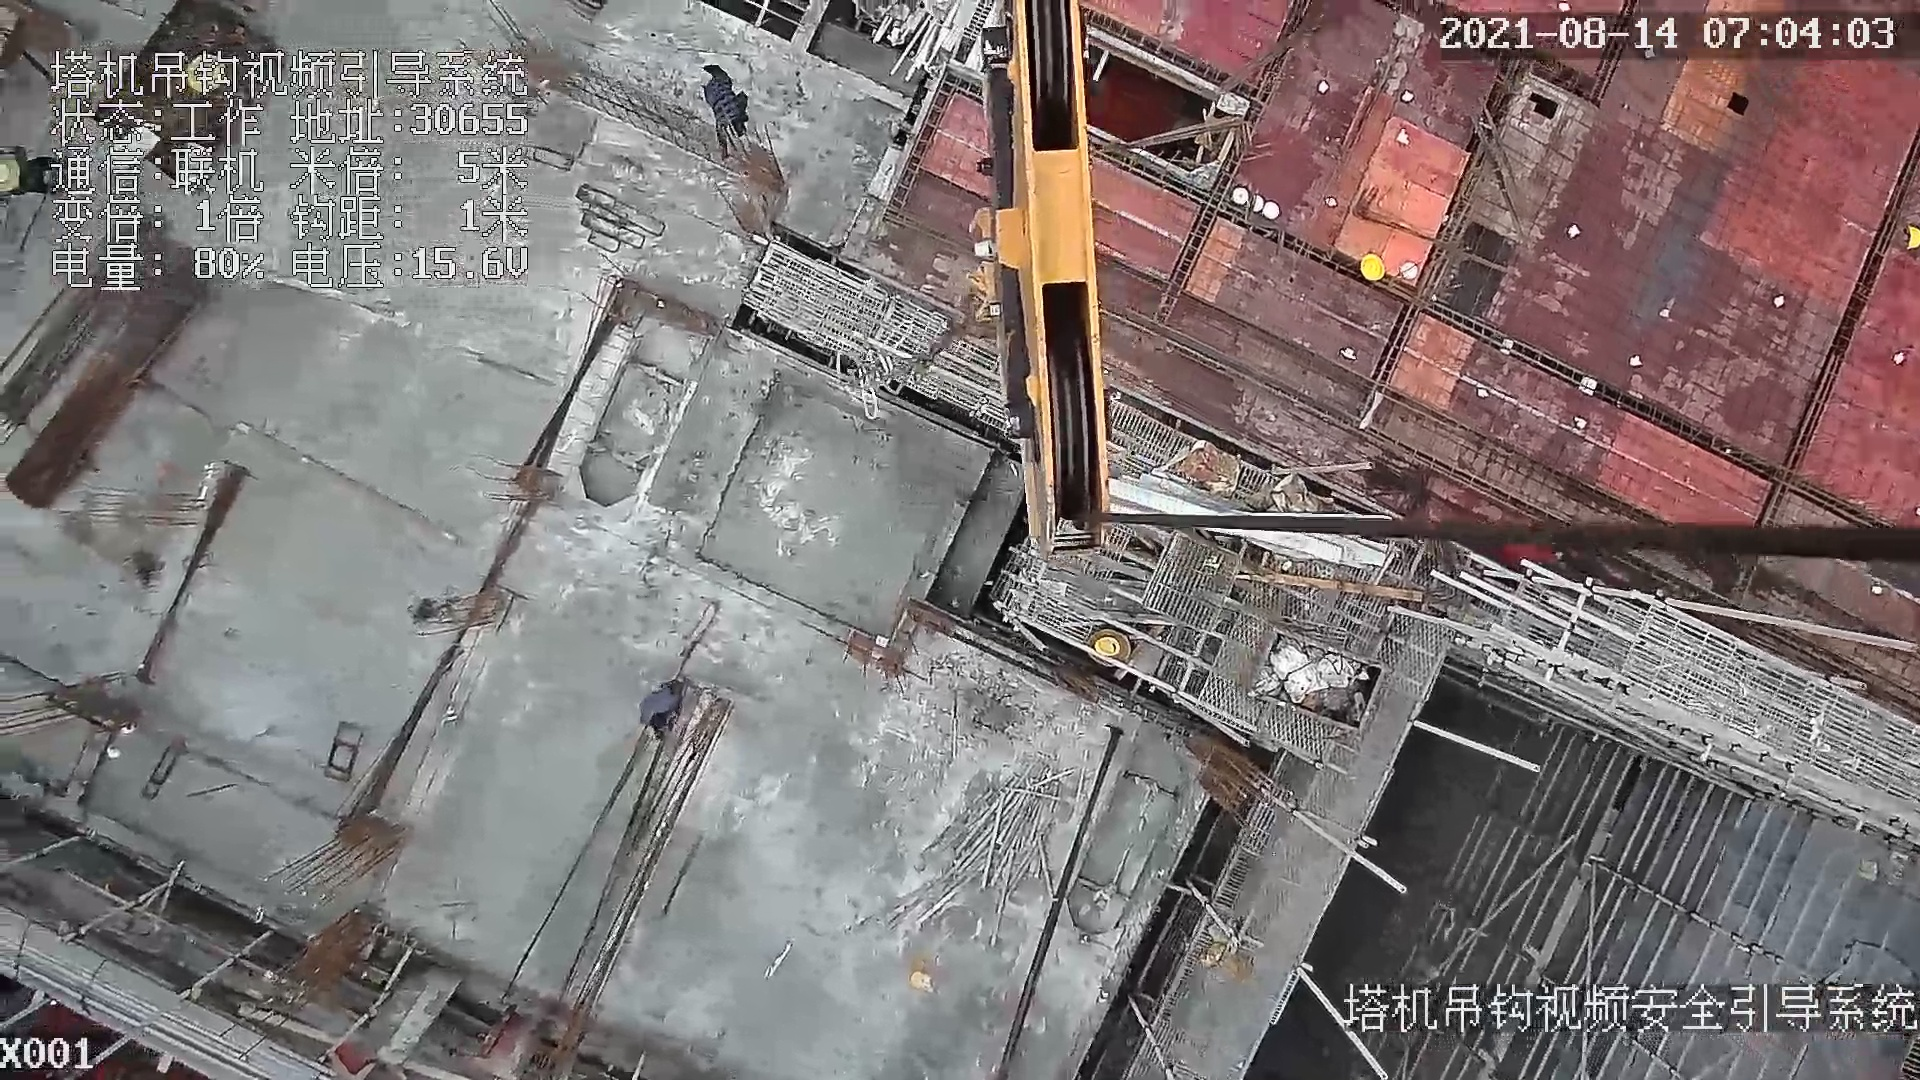helmet: (1360, 248, 1386, 283)
hook: (951, 1, 1120, 553)
person: (699, 54, 754, 156), (633, 677, 682, 755)
